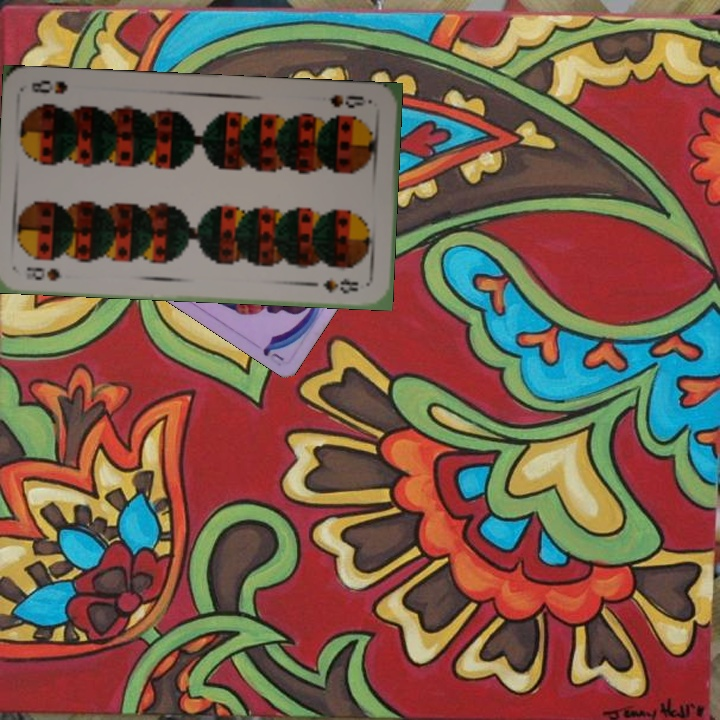S8: (326, 91, 375, 111), (23, 263, 62, 284)
